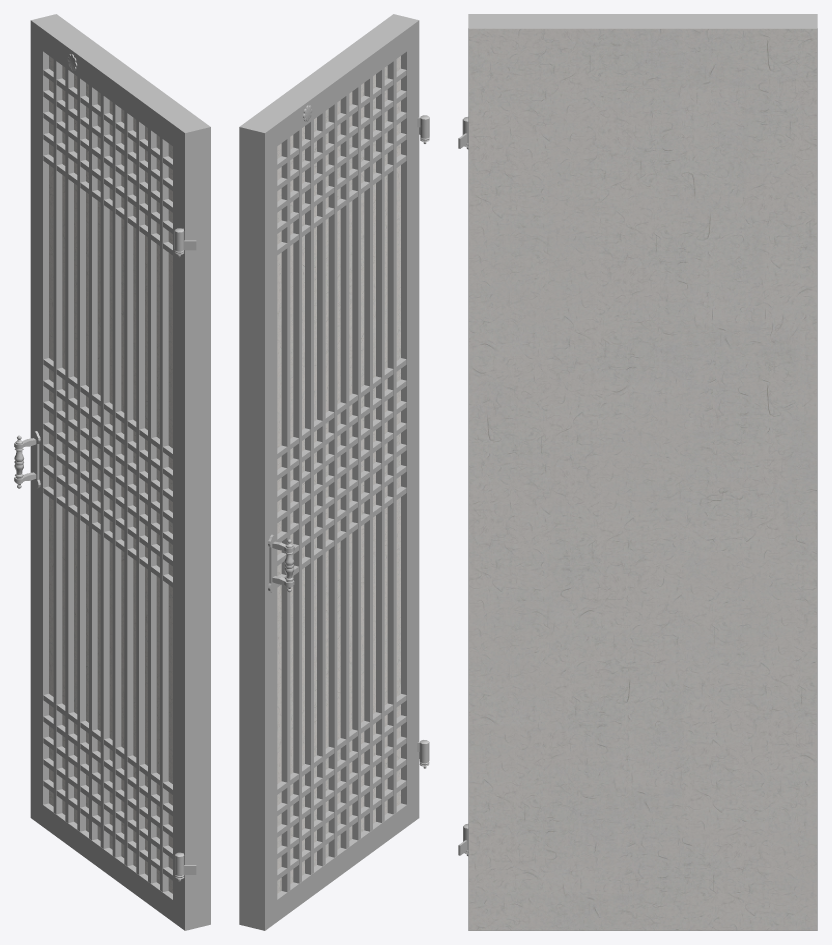
Rendered from SM_GlassDoor01E-b.fbx.
The picture shows the model from 3 angles, left to right: view 1: azimuth 30°, elevation 25°; view 2: azimuth 150°, elevation 25°; view 3: azimuth 270°, elevation 25°; orthographic projection. The views are drawn at different scales.
Visible parts, largest first — view 1: SM_GlassDoor01E-b; view 2: SM_GlassDoor01E-b; view 3: SM_GlassDoor01E-b.
Part boxes in pixels (x1=…): SM_GlassDoor01E-b: x1=14, y1=14, x2=210, y2=930; SM_GlassDoor01E-b: x1=239, y1=14, x2=429, y2=930; SM_GlassDoor01E-b: x1=458, y1=14, x2=817, y2=930.
Bounding box in the file's own units: 8.77 × 50.46 × 140.
